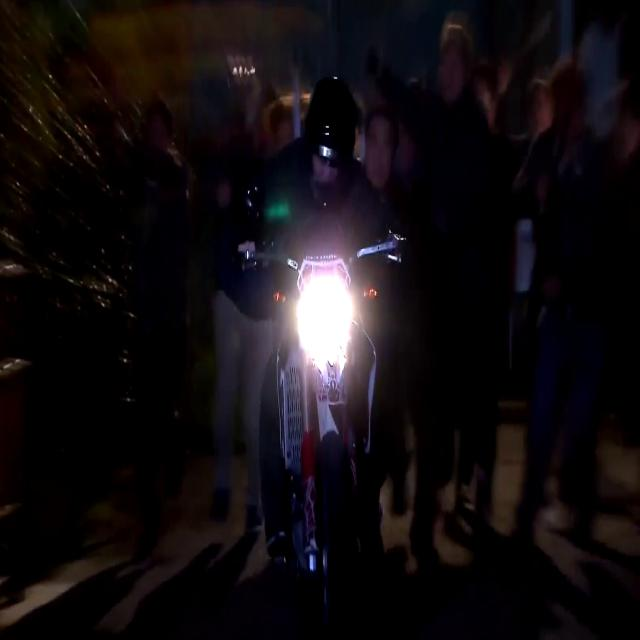Motorbike: (248, 100, 431, 634)
